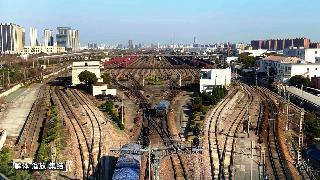train: (109, 142, 143, 180), (156, 99, 170, 116)
